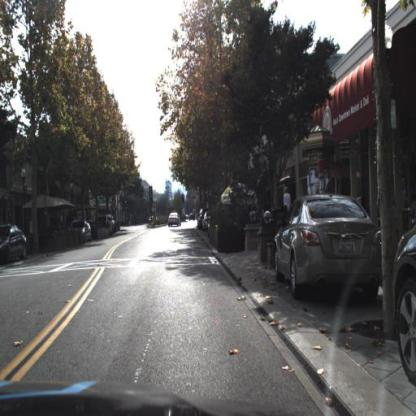car: (274, 192, 390, 304), (394, 226, 416, 387), (1, 223, 29, 267), (69, 218, 94, 245), (167, 210, 183, 230)
pedestrian: (278, 185, 296, 220)
trafficLight-Red: (181, 193, 187, 205)
